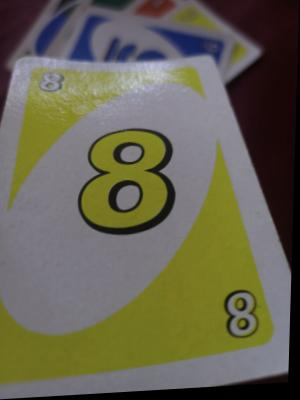num_8: (72, 113, 198, 273)
yellow: (30, 60, 124, 109)
